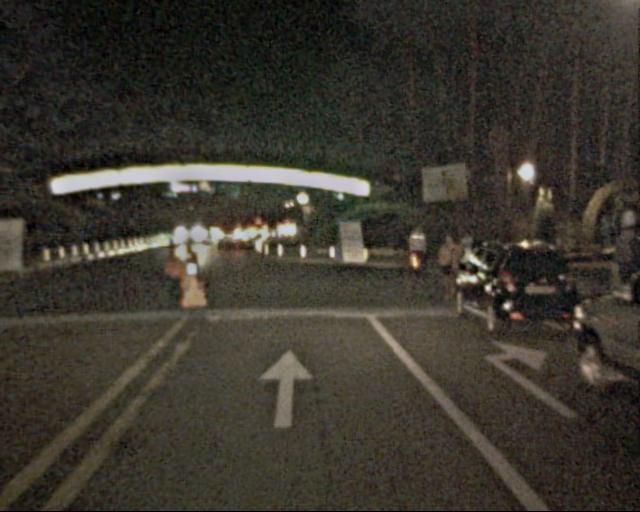person: (435, 234, 461, 298), (404, 225, 428, 284), (454, 231, 477, 288)
